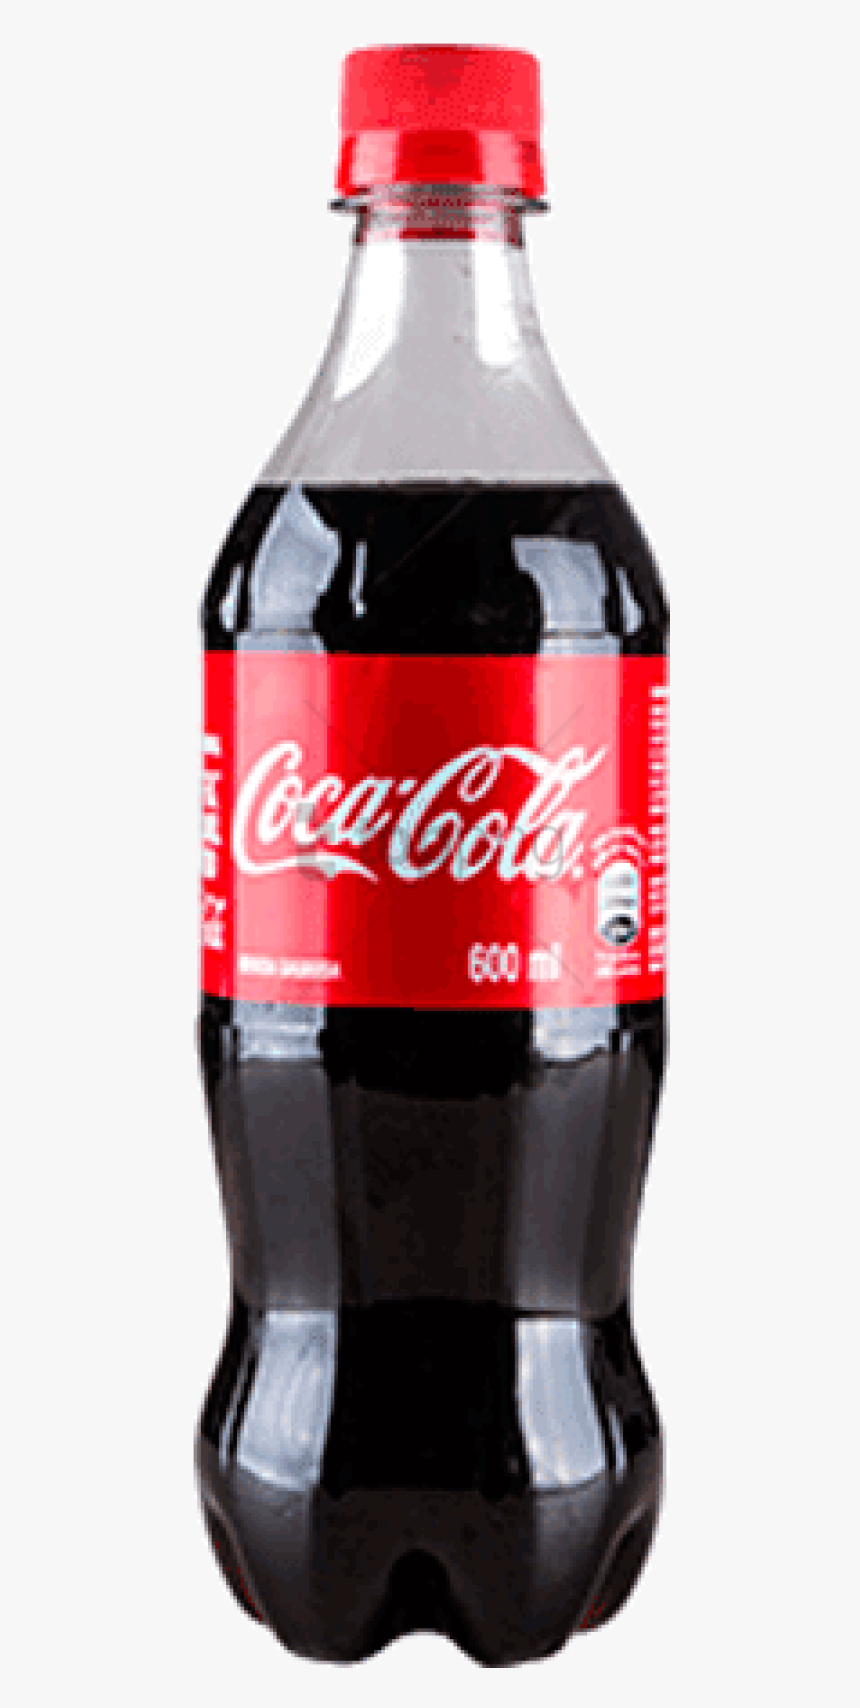coca_cola_bottle: (191, 36, 675, 1670)
